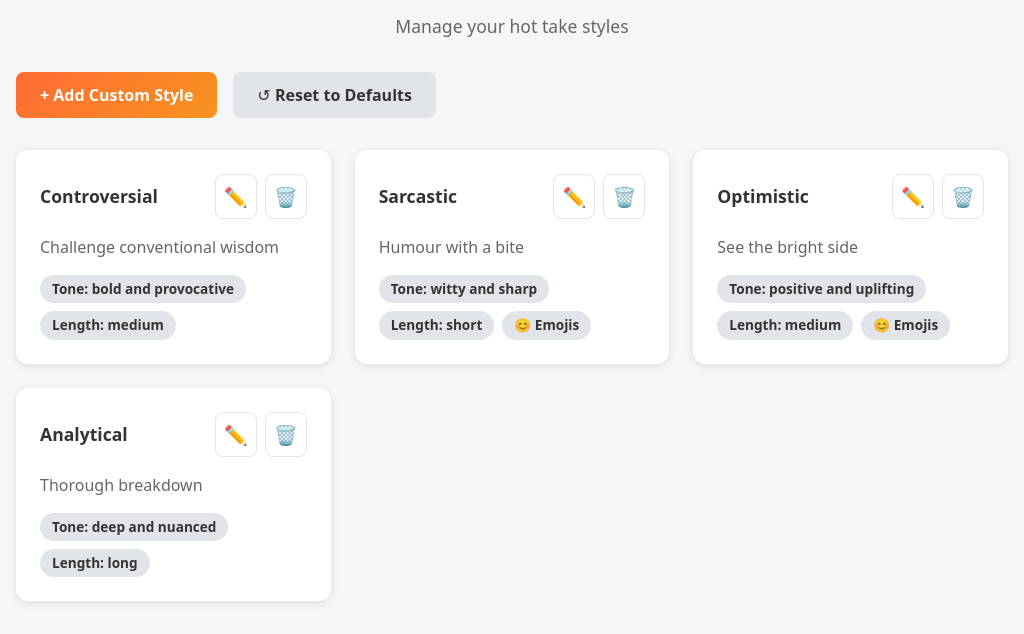
Test: StylesPage › edits an existing style preset
Click the button titled "Edit" next to "Controversial": (236, 196) [215,174,257,219]
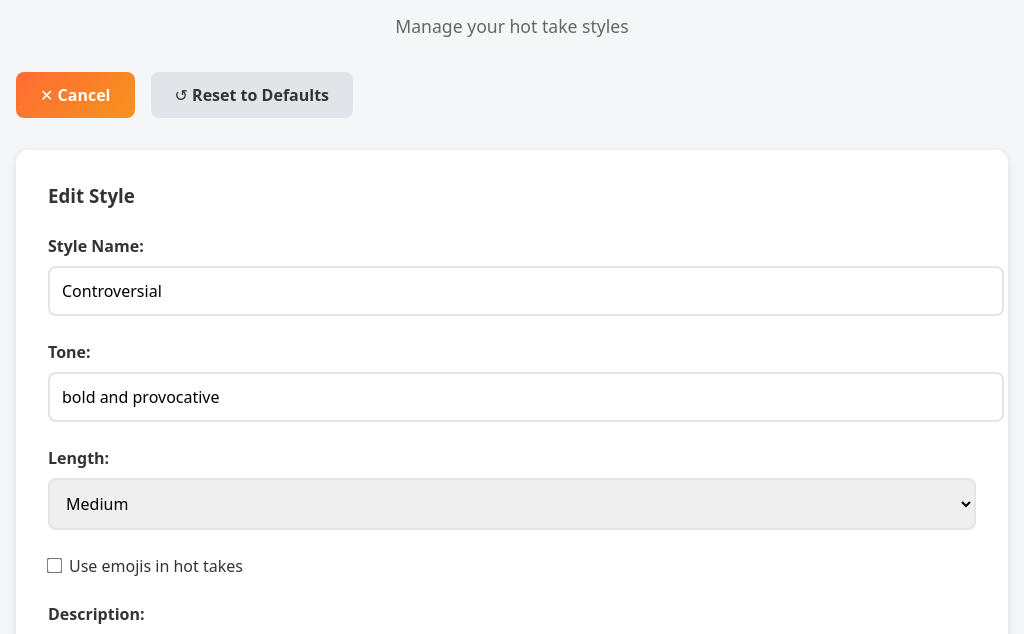
Result: the heading "Edit Style" is shown at [48,183,135,208]
Result: the field labelled "Style Name:" holds "Controversial"
Replace the text in the field labelled "Style Name:" with "Super Controversial": (526, 291) [48,266,1004,316]
(page scrolled)
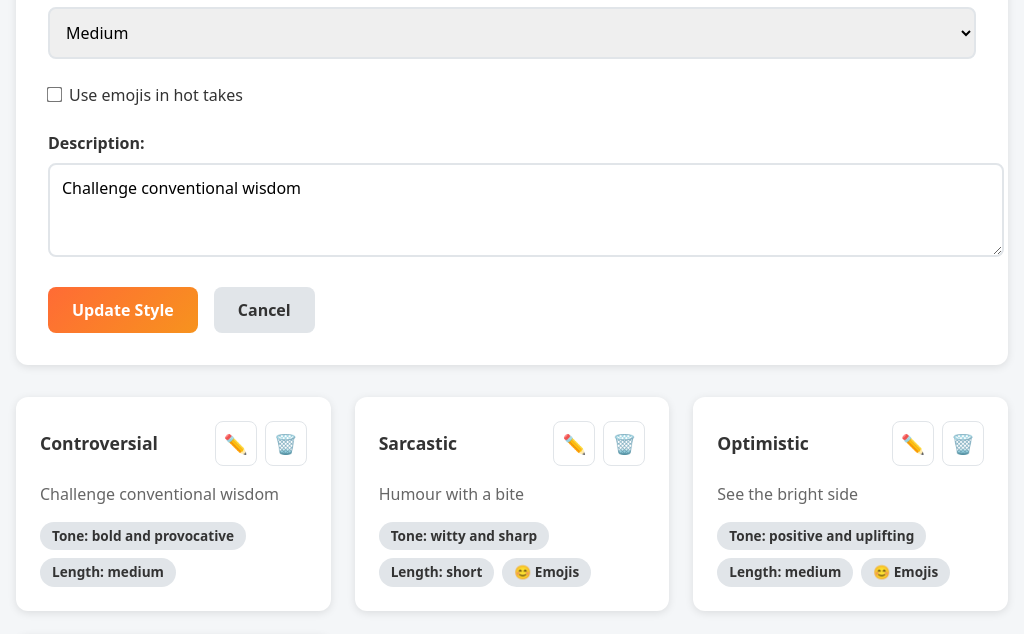
Click the button "Update Style": (123, 310) [48,287,198,333]
(page scrolled)
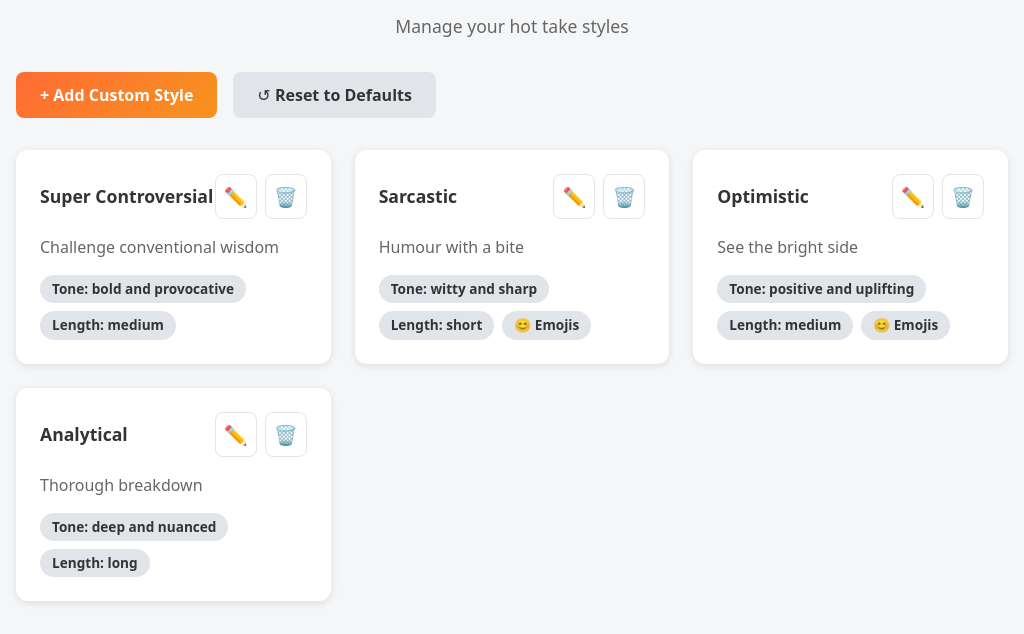
Result: the heading "Super Controversial" is shown at [40,183,213,210]
